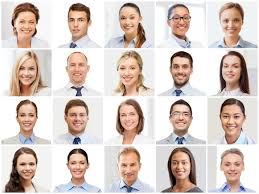face: (170, 107, 192, 132), (169, 158, 194, 180), (219, 111, 245, 132), (118, 62, 141, 85), (13, 158, 38, 179), (118, 11, 141, 33), (167, 10, 190, 32), (67, 59, 88, 83), (67, 110, 89, 132), (170, 62, 192, 84), (67, 14, 90, 35), (221, 15, 243, 36), (221, 160, 244, 180), (117, 111, 141, 130), (221, 61, 242, 82), (17, 110, 36, 130), (68, 158, 87, 178), (17, 63, 35, 84), (121, 161, 139, 182), (17, 18, 37, 36)
